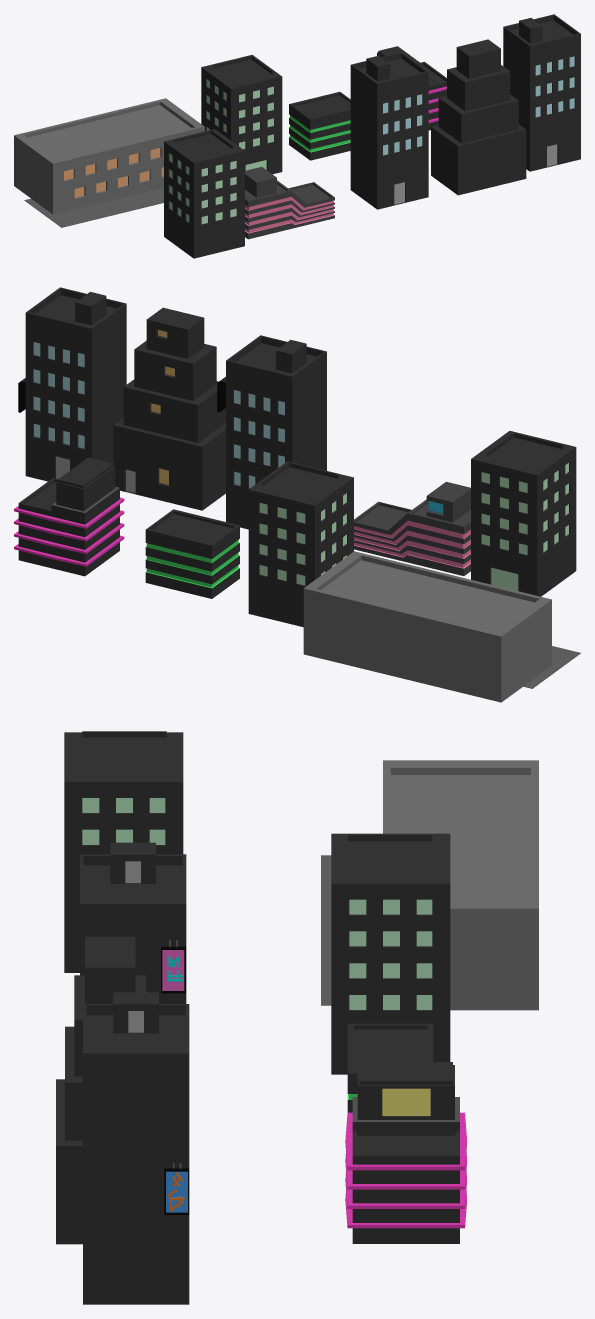
File: buildings.fbx
3 renders of one model, top to bottom at view 1: azimuth 30°, elevation 25°; view 2: azimuth 150°, elevation 25°; view 3: azimuth 270°, elevation 25°, orthographic. The views are drawn at different scales.
Visible parts, largest first — view 1: Cube.132, Cube.006, Cube.143, Cube.131, Cube.127, Cube.033, Cube.130, Cube, Cube.126, Cube.036, Cube.009, Cube.138 (+5 smaller); view 2: Cube.132, Cube.143, Cube.131, Cube.006, Cube.009, Cube.035, Cube.125, Cube.130, Cube, Cube.126, Cube.036, Cube.129 (+5 smaller); view 3: Cube.131, Cube.132, Cube.009, Cube.034, Cube.006, Cube.143, Cube.128, Cube.127, Cube, Cube.129, Cube.037, Cube.033 (+4 smaller).
Part boxes in pixels (bbox=[...]): Cube.132: bbox=[14, 98, 204, 214]; Cube.006: bbox=[350, 52, 428, 209]; Cube.143: bbox=[431, 39, 526, 195]; Cube.131: bbox=[503, 14, 580, 171]; Cube.127: bbox=[189, 147, 244, 258]; Cube.033: bbox=[226, 73, 282, 174]; Cube.130: bbox=[245, 167, 334, 239]; Cube: bbox=[289, 91, 350, 160]; Cube.126: bbox=[164, 141, 201, 258]; Cube.036: bbox=[202, 67, 238, 145]; Cube.009: bbox=[377, 46, 446, 130]; Cube.138: bbox=[24, 198, 112, 227]; Cube.132: bbox=[303, 551, 551, 702]; Cube.143: bbox=[113, 307, 225, 510]; Cube.131: bbox=[25, 287, 126, 481]; Cube.006: bbox=[226, 335, 326, 529]; Cube.009: bbox=[14, 457, 124, 576]; Cube.035: bbox=[248, 488, 320, 627]; Cube.125: bbox=[471, 455, 543, 596]; Cube.130: bbox=[354, 481, 470, 575]; Cube: bbox=[145, 509, 239, 598]; Cube.126: bbox=[527, 446, 576, 596]; Cube.036: bbox=[305, 476, 353, 585]; Cube.129: bbox=[486, 433, 562, 468]; Cube.131: bbox=[83, 992, 189, 1304]; Cube.132: bbox=[383, 760, 538, 1010]; Cube.009: bbox=[345, 1062, 466, 1243]; Cube.034: bbox=[332, 876, 450, 1074]; Cube.006: bbox=[80, 842, 186, 1003]; Cube.143: bbox=[56, 936, 145, 1244]; Cube.128: bbox=[65, 774, 182, 969]; Cube.127: bbox=[64, 732, 82, 972]; Cube: bbox=[347, 1023, 433, 1112]; Cube.129: bbox=[82, 731, 166, 774]; Cube.037: bbox=[348, 835, 432, 878]; Cube.033: bbox=[331, 833, 349, 1074].
Size of the model in its own units: 19385 by 5396 by 8706.
